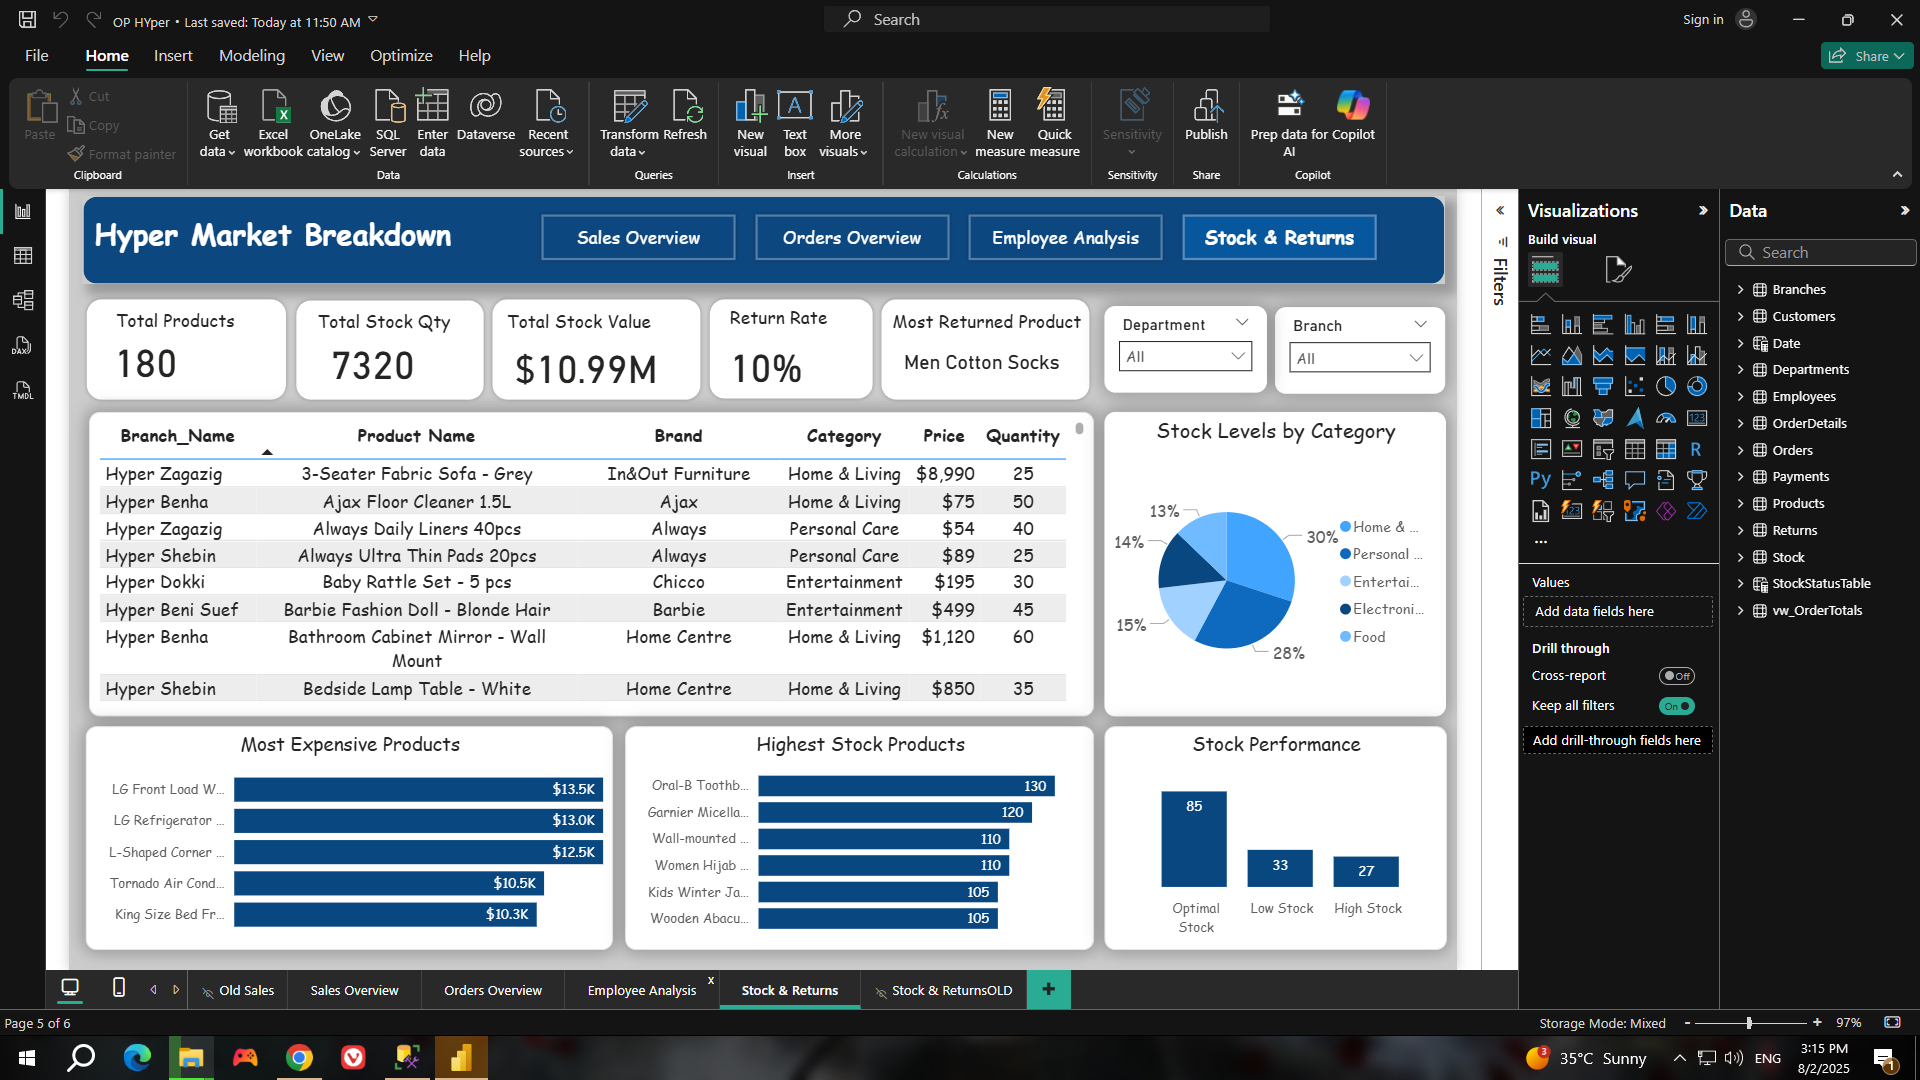

What the dashboard file says about the page in this screenshot:
{"tool":"powerbi","page":{"name":"Stock & Returns","canvas":[1280,720],"ordinal":4},"visuals":[{"type":"shape","box":[12.7,5.8,1256.8,82.1],"z":0},{"type":"shape","box":[12.3,97.6,191.8,100.7],"z":0,"group":"g1"},{"type":"shape","box":[386.5,97.6,200,100.7],"z":0,"group":"g4"},{"type":"shape","box":[586.9,97.6,158.3,99.7],"z":0,"group":"g5"},{"type":"shape","box":[745.2,97.6,200,100.7],"z":0,"group":"g6"},{"type":"shape","box":[205.6,98.7,180.9,99.7],"z":0,"group":"g3"},{"type":"textbox","box":[18.5,16.4,356.7,95.6],"z":1000},{"type":"card","title":"Total Sales ","fields":{"Values":["CountNonNull(Products.Pro_ID)"]},"box":[29.1,133.5,82.9,46.9],"z":1000,"group":"g1"},{"type":"card","title":"Total Sales ","fields":{"Values":["Sum(Stock.Quantity)"]},"box":[229.4,136.6,100.7,44.2],"z":1000,"group":"g3"},{"type":"card","title":"Total Sales ","fields":{"Values":["Returns.Most_Returned_Product"]},"box":[762.8,138.2,157.3,43.2],"z":1000,"group":"g6"},{"type":"card","title":"Total Sales ","fields":{"Values":["Returns.return_rate"]},"box":[596.9,139.4,90.5,44.2],"z":1000,"group":"g5"},{"type":"card","title":"Total Sales ","fields":{"Values":["Stock.Total_Stock_Value"]},"box":[394.2,141.1,163.4,44.2],"z":1000,"group":"g4"},{"type":"pageNavigator","box":[432,19.6,781.6,50.9],"z":2000,"group":"g2"},{"type":"group","id":"g1","title":"Group 1","box":[12.3,97.6,192.2,100.7],"z":2000},{"type":"textbox","box":[604.4,100.4,146.7,39.1],"z":2000,"group":"g5"},{"type":"textbox","box":[37.6,103.3,128.1,40.1],"z":2000,"group":"g1"},{"type":"textbox","box":[224.3,104.8,179.9,39.1],"z":2000,"group":"g3"},{"type":"textbox","box":[399,105,179.9,39.1],"z":2000,"group":"g4"},{"type":"textbox","box":[754.6,105.3,210.7,39.1],"z":2000,"group":"g6"},{"type":"slicer","fields":{"Values":["Branches.Branch_Name"]},"box":[1112.1,109,157.3,80.2],"z":3000},{"type":"group","id":"g2","title":"Group 3","box":[432,19.6,781.6,50.9],"z":4000},{"type":"tableEx","fields":{"Values":["Branches.Branch_Name","Products.Pro_Name","Products.Pro_Brand","Products.Category","Products.Pro_UnitPrice","Stock.Quantity"]},"box":[18.5,205.6,927.1,280.6],"z":5000},{"type":"barChart","title":"Most Expensive Products","fields":{"Y":["Avg(Products.Pro_UnitPrice)"],"Category":["Products.Pro_Name"]},"box":[15.4,495.4,486.2,206.6],"z":6000},{"type":"group","id":"g3","title":"Group 1","box":[205.6,98.7,198.4,99.7],"z":7000},{"type":"group","id":"g4","title":"Group 1","box":[386.5,97.6,200,100.7],"z":8000},{"type":"group","id":"g5","title":"Group 1","box":[586.9,97.6,164.5,99.7],"z":9000},{"type":"group","id":"g6","title":"Group 1","box":[745.2,97.6,220,100.7],"z":10000},{"type":"pieChart","title":"Stock Levels by Category","fields":{"Category":["Products.Category"],"Y":["Sum(Stock.Quantity)"]},"box":[954.9,205.6,314.5,280.6],"z":11000},{"type":"barChart","title":"Highest Stock Products","fields":{"Category":["Products.Pro_Name"],"Y":["Sum(Stock.Quantity)"]},"box":[512.9,495.4,432.7,206.6],"z":12000},{"type":"columnChart","title":"Stock Performance","fields":{"Y":["CountNonNull(StockStatusTable.Pro_ID)"],"Category":["StockStatusTable.StockStatus"]},"box":[954.9,495.4,315.5,206.6],"z":13000},{"type":"slicer","fields":{"Values":["Departments.Dept_Name"]},"box":[954.9,107.9,150.1,80.2],"z":14000}]}

Visuals, with their boxes on the page's 1280x720 design canvas (x1, y1, x2, y2). These are canvas units, not pixel positions in the 1920x1080 screenshot, which may show the page scaled, cropped or inside an application window:
shape: select_region(13, 6, 1270, 88)
shape: select_region(12, 98, 204, 198)
shape: select_region(386, 98, 586, 198)
shape: select_region(587, 98, 745, 197)
shape: select_region(745, 98, 945, 198)
shape: select_region(206, 99, 386, 198)
textbox: select_region(18, 16, 375, 112)
"Total Sales " card: select_region(29, 134, 112, 180)
"Total Sales " card: select_region(229, 137, 330, 181)
"Total Sales " card: select_region(763, 138, 920, 181)
"Total Sales " card: select_region(597, 139, 687, 184)
"Total Sales " card: select_region(394, 141, 558, 185)
pageNavigator: select_region(432, 20, 1214, 70)
"Group 1" group: select_region(12, 98, 204, 198)
textbox: select_region(604, 100, 751, 140)
textbox: select_region(38, 103, 166, 143)
textbox: select_region(224, 105, 404, 144)
textbox: select_region(399, 105, 579, 144)
textbox: select_region(755, 105, 965, 144)
slicer - Branches.Branch_Name: select_region(1112, 109, 1269, 189)
"Group 3" group: select_region(432, 20, 1214, 70)
tableEx - Branches.Branch_Name x Products.Pro_Name: select_region(18, 206, 946, 486)
"Most Expensive Products" barChart: select_region(15, 495, 502, 702)
"Group 1" group: select_region(206, 99, 404, 198)
"Group 1" group: select_region(386, 98, 586, 198)
"Group 1" group: select_region(587, 98, 751, 197)
"Group 1" group: select_region(745, 98, 965, 198)
"Stock Levels by Category" pieChart: select_region(955, 206, 1269, 486)
"Highest Stock Products" barChart: select_region(513, 495, 946, 702)
"Stock Performance" columnChart: select_region(955, 495, 1270, 702)
slicer - Departments.Dept_Name: select_region(955, 108, 1105, 188)
